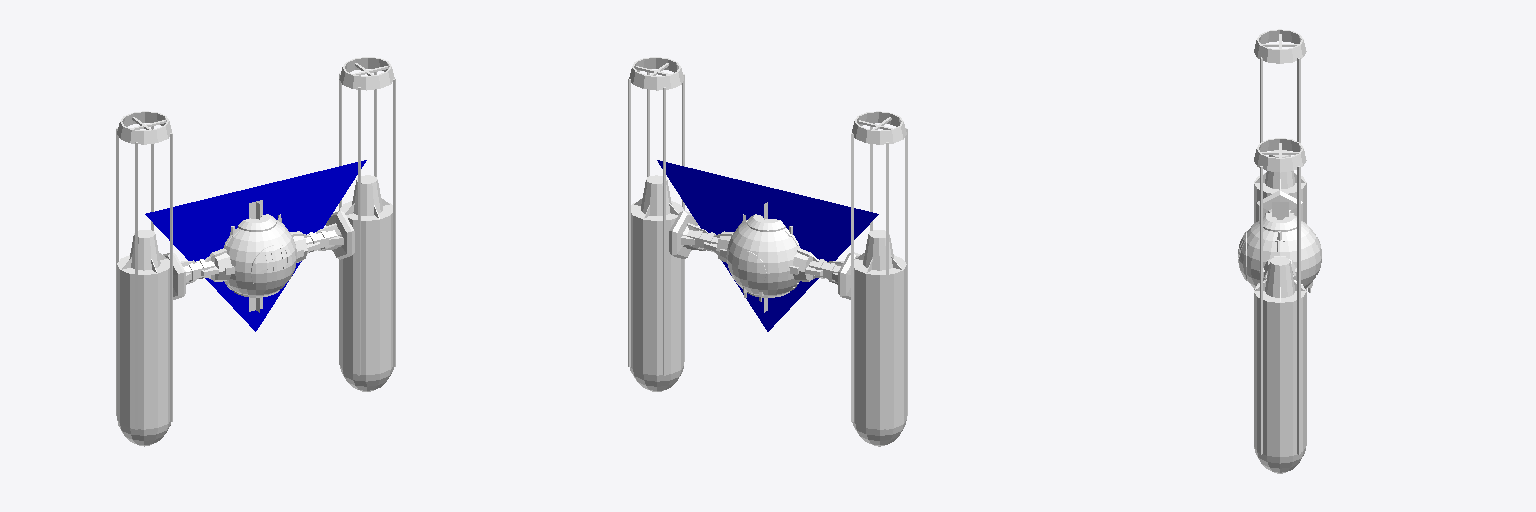
File: pv_TYEwing.obj
The picture shows the model from 3 angles: view 1: azimuth 30°, elevation 25°; view 2: azimuth 150°, elevation 25°; view 3: azimuth 270°, elevation 25°; orthographic projection.
Visible parts, largest first — view 1: ENGINES_LOD0, engines, HULL_LOD0; view 2: ENGINES_LOD0, engines, HULL_LOD0; view 3: ENGINES_LOD0, HULL_LOD0.
Boxes of the visible parts, <box> form: ENGINES_LOD0: <box>116,57,395,446</box>; engines: <box>145,160,366,331</box>; HULL_LOD0: <box>163,211,354,299</box>; ENGINES_LOD0: <box>628,57,907,446</box>; engines: <box>657,160,878,331</box>; HULL_LOD0: <box>669,211,860,301</box>; ENGINES_LOD0: <box>1254,29,1306,473</box>; HULL_LOD0: <box>1238,190,1321,292</box>.
Size of the model in its own units: 49.12 by 55.99 by 13.32.